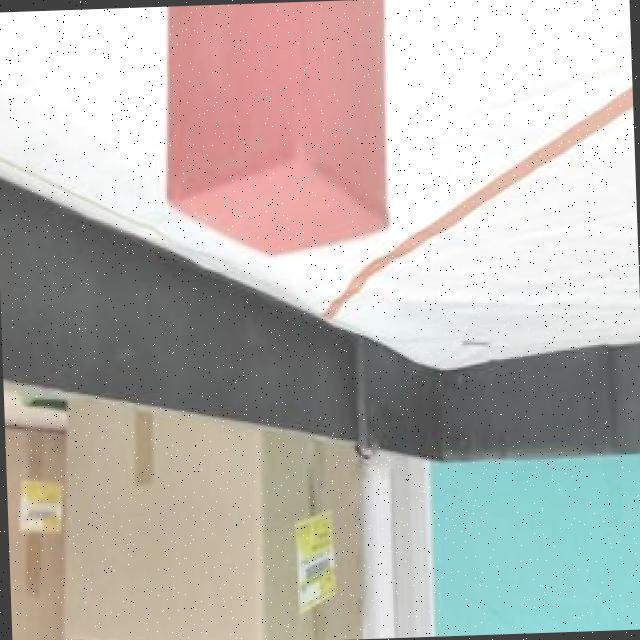redbox: (156, 0, 395, 259)
